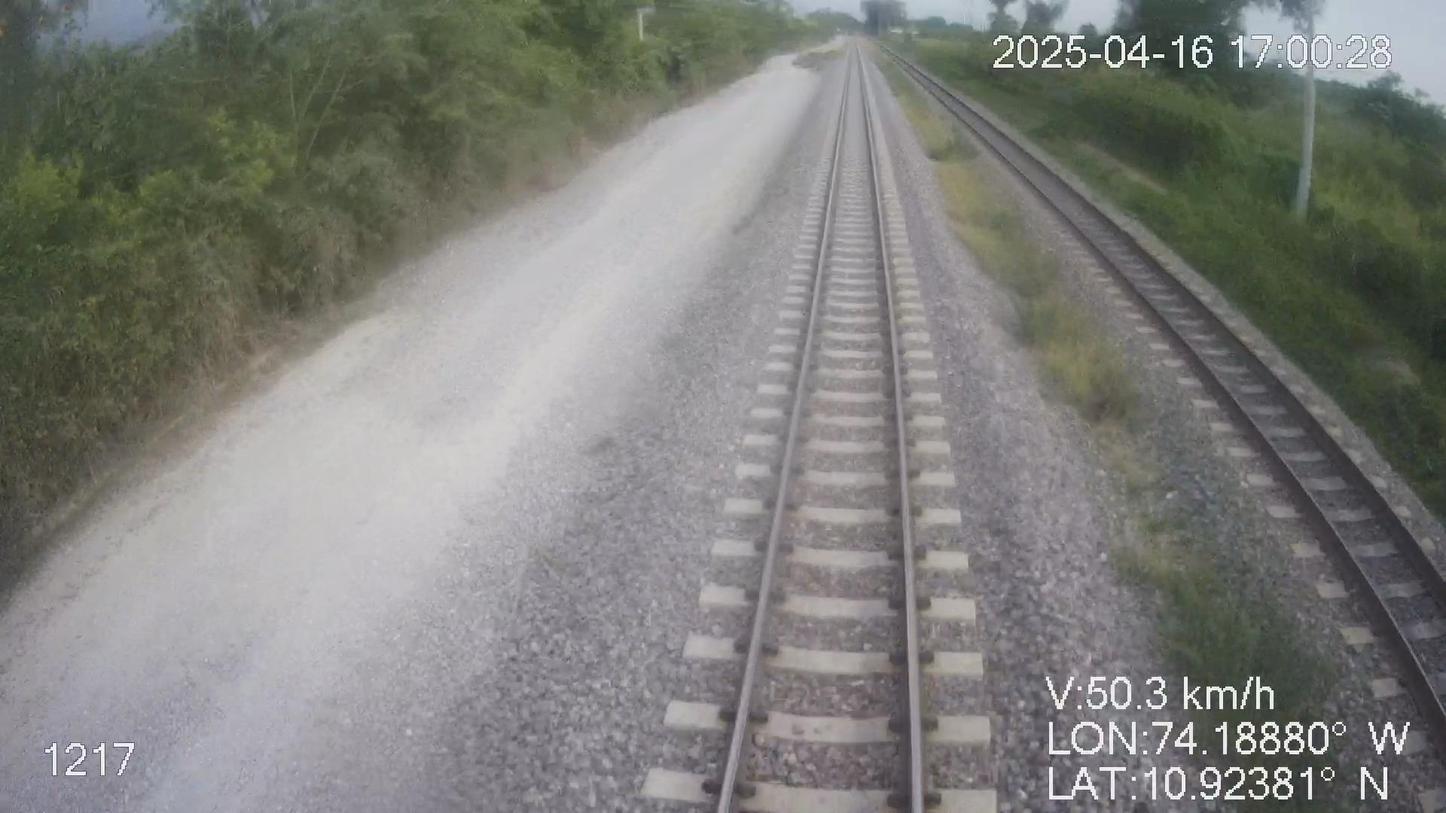Pasto: (0, 0, 817, 582), (881, 22, 1445, 531)
